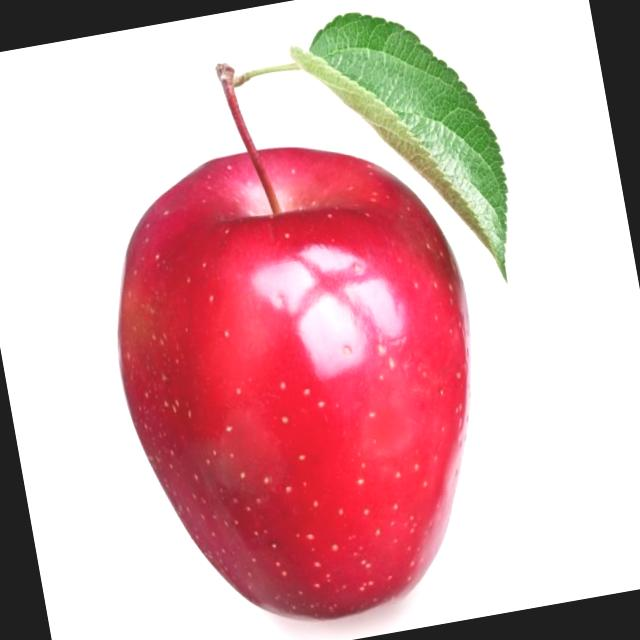apple: (79, 109, 525, 640)
